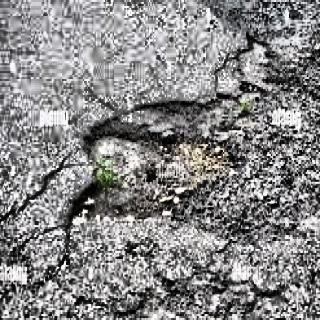alligator-crack: (215, 52, 320, 241), (120, 264, 282, 320)
crack: (0, 148, 85, 222)
pothole: (67, 92, 242, 228)
